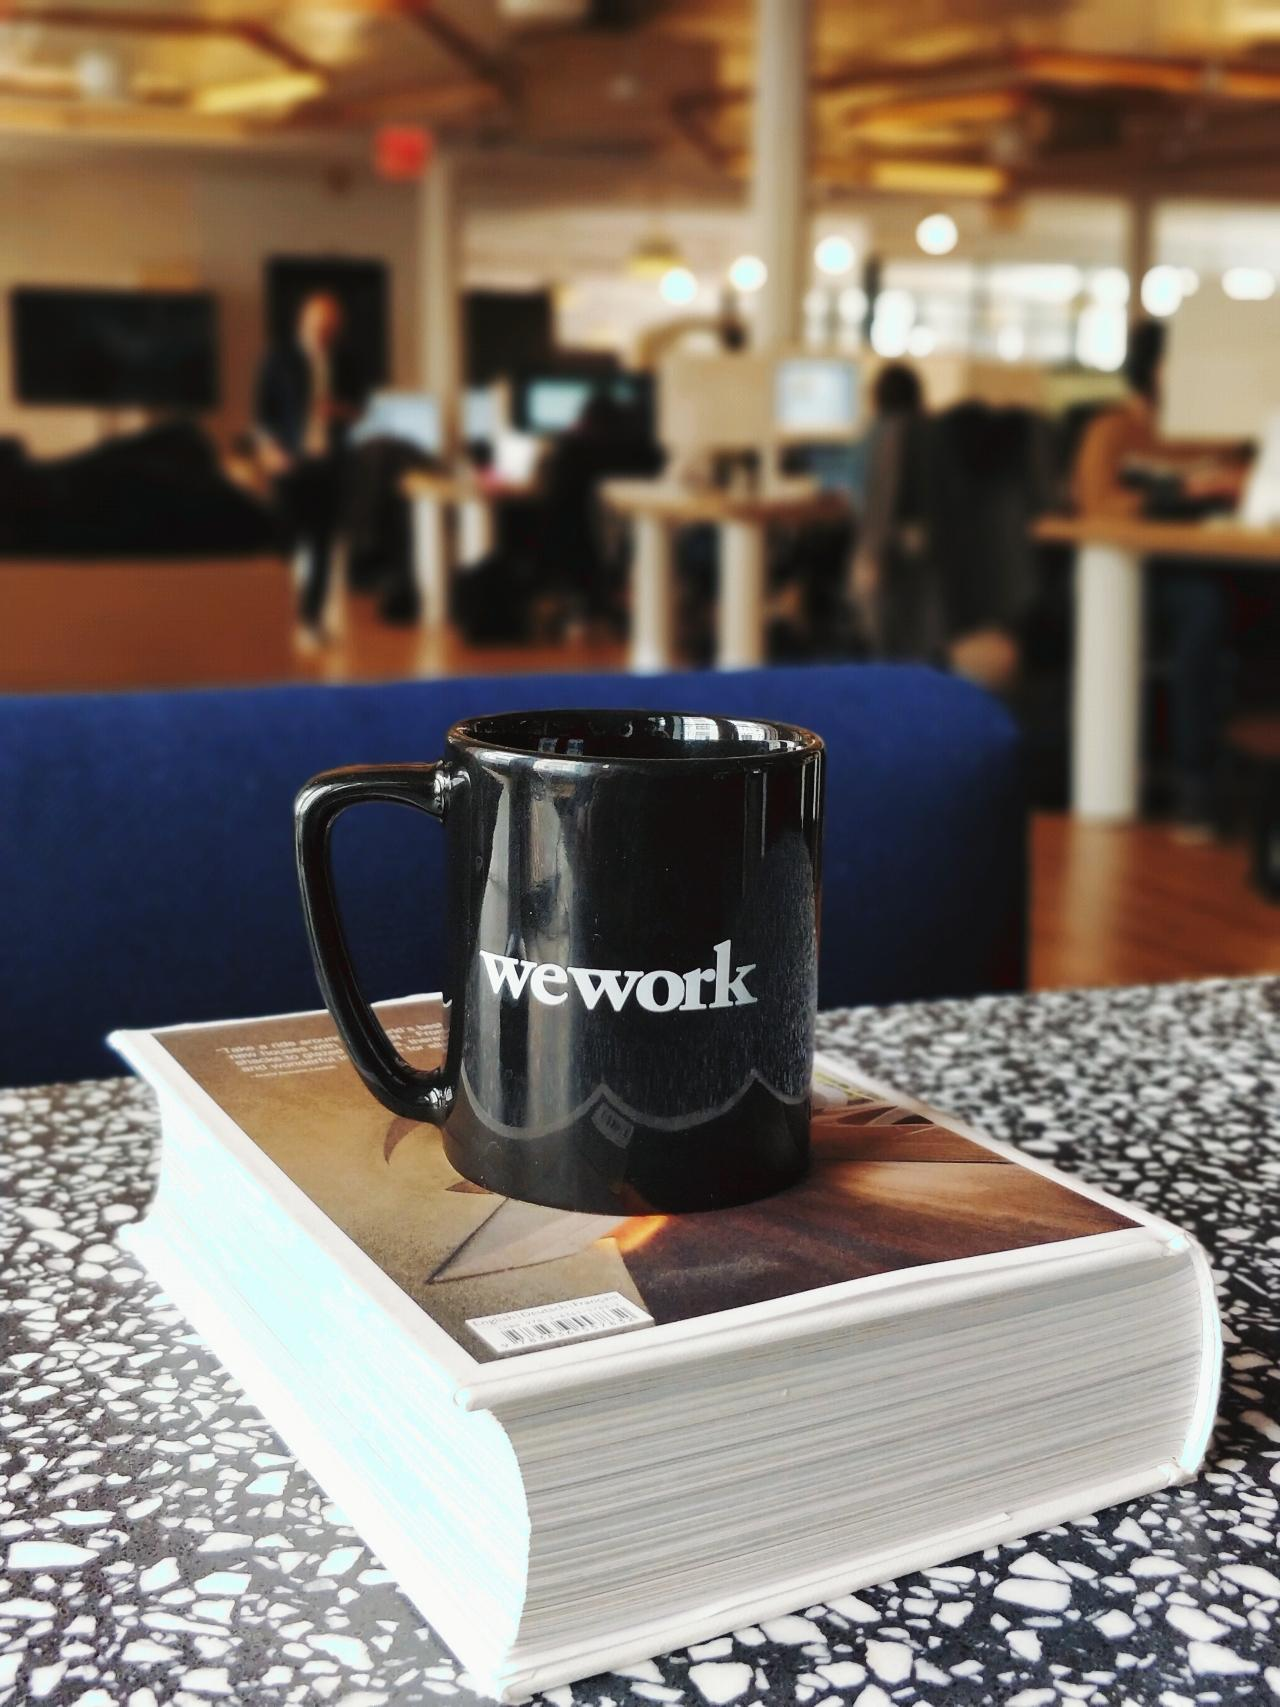wework: (475, 934, 762, 1017)
